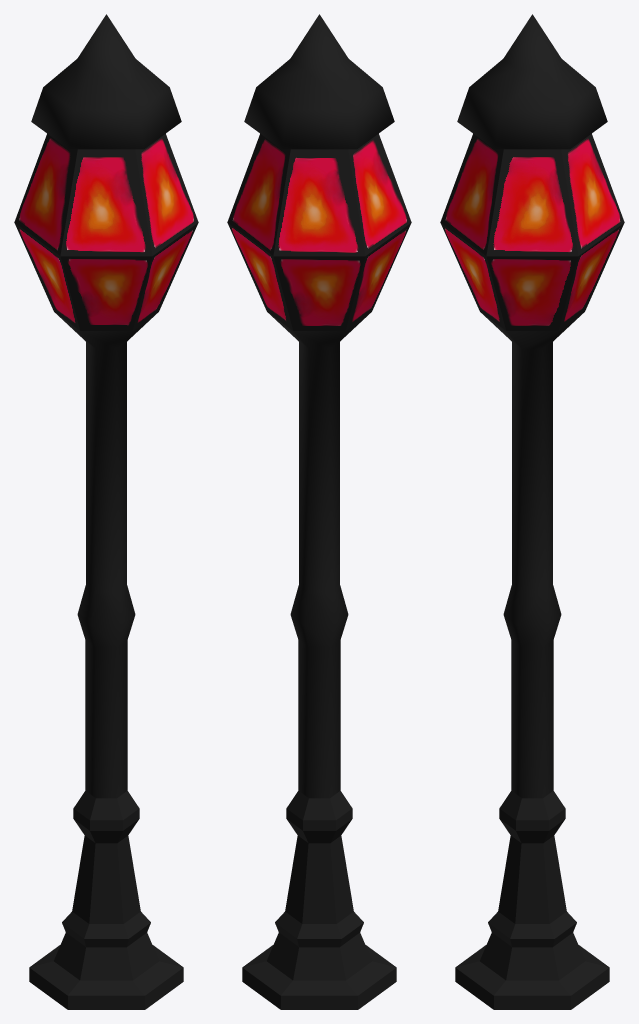
File: lamp_red.obj
3 views of the same model, side by side, from view 1: azimuth 30°, elevation 25°; view 2: azimuth 150°, elevation 25°; view 3: azimuth 270°, elevation 25° (orthographic).
Parts seen in each view (by area): view 1: Circle; view 2: Circle; view 3: Circle.
Part boxes in pixels (bbox=[...]): Circle: bbox=[14, 14, 198, 1009]; Circle: bbox=[227, 14, 411, 1009]; Circle: bbox=[440, 14, 624, 1009].
Size of the model in its own units: 2.07 by 13.82 by 2.39.
Materials: 1 (1 with a texture image).
